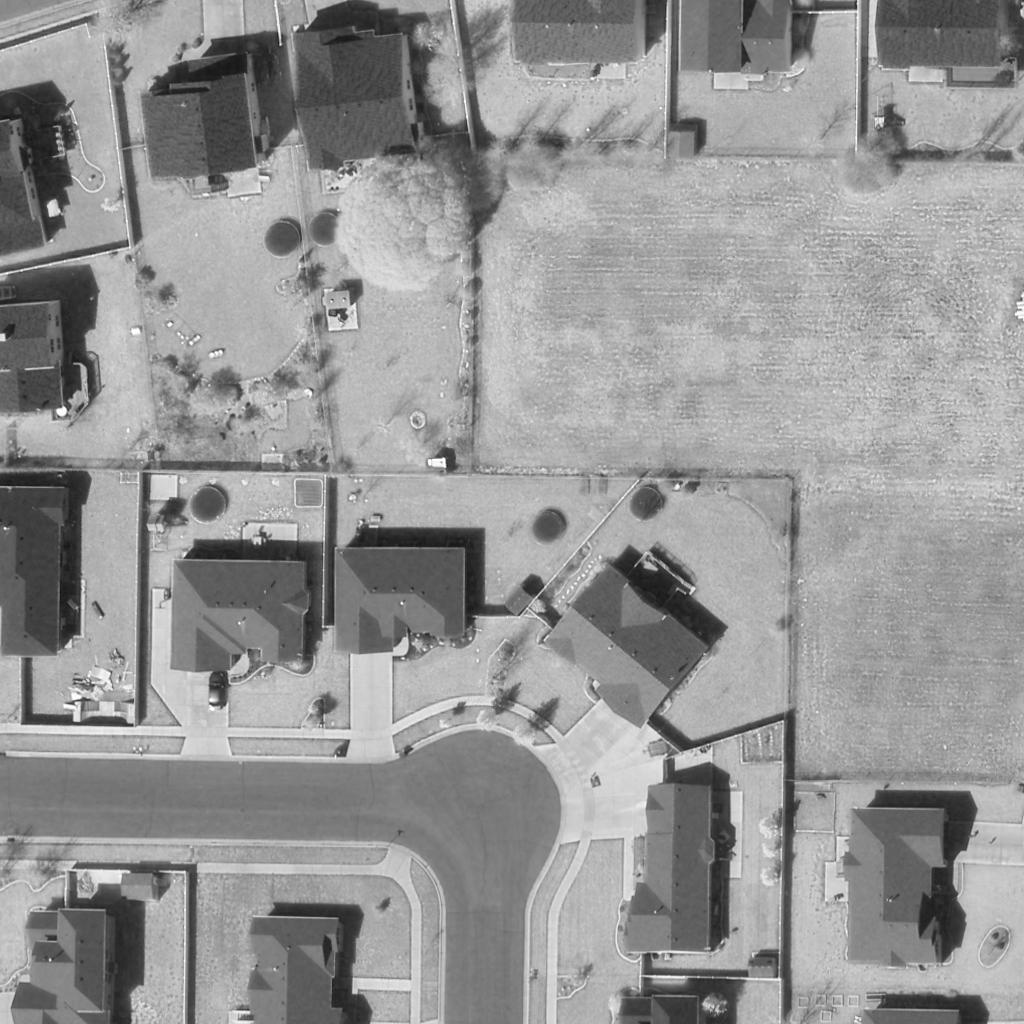vehicle: (208, 673, 228, 713)
